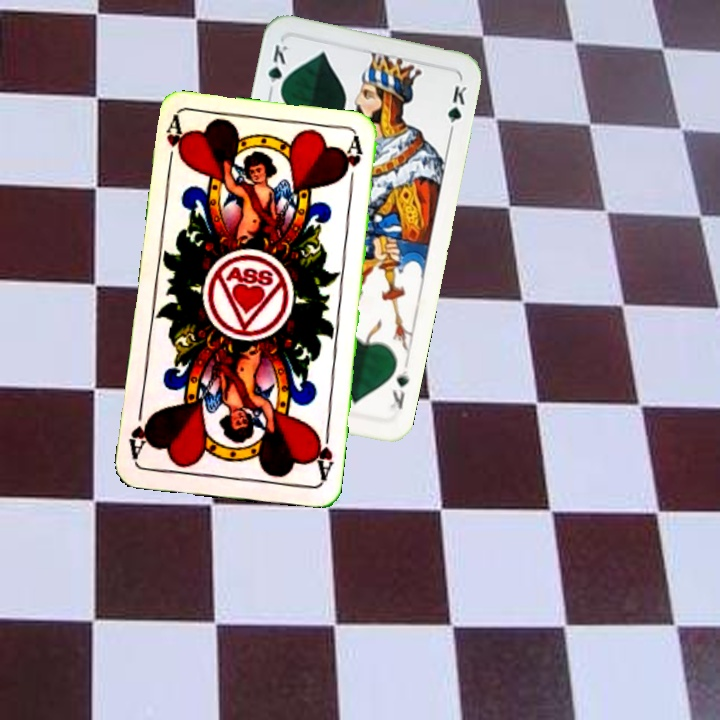GK: (263, 40, 292, 98), (385, 366, 412, 412)
HA: (309, 424, 336, 484), (161, 114, 188, 173)
